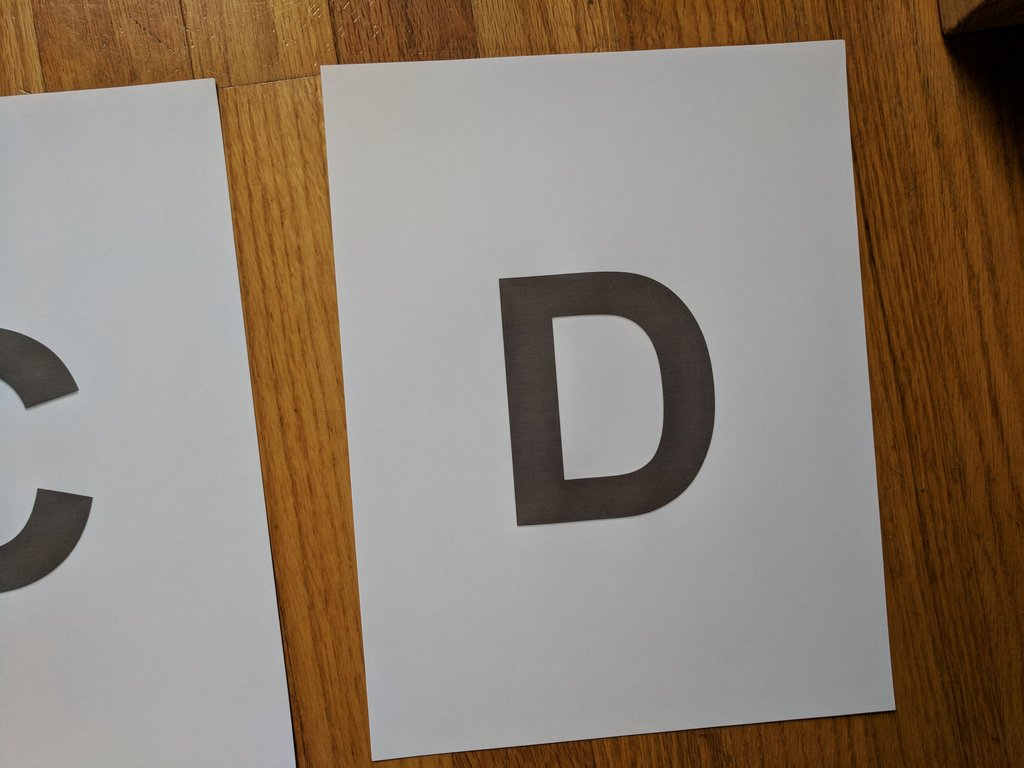home: (1, 327, 97, 595)
